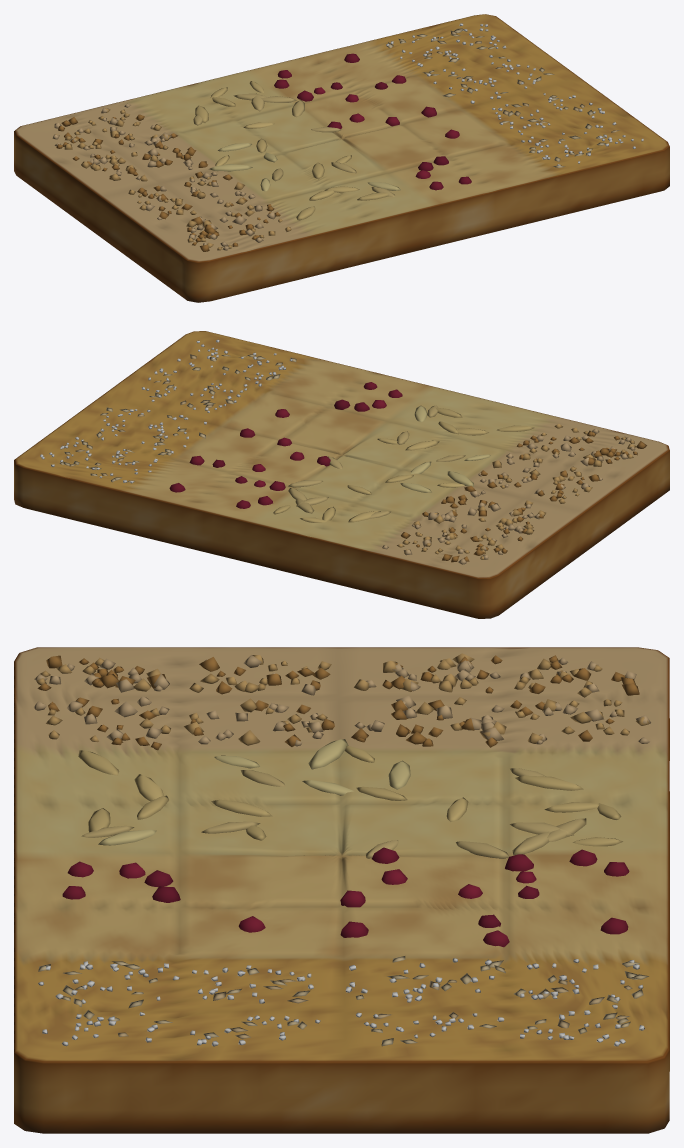
Rendered from blechkuchen.glb.
3 views of the same model, one above another, from view 1: azimuth 30°, elevation 25°; view 2: azimuth 150°, elevation 25°; view 3: azimuth 270°, elevation 25° (orthographic). The views are drawn at different scales.
Visible parts, largest first — view 1: blechkuchen; view 2: blechkuchen; view 3: blechkuchen.
Part boxes in pixels (x1,y1,x2,y2): blechkuchen: (14, 14, 669, 302); blechkuchen: (14, 331, 669, 618); blechkuchen: (14, 647, 669, 1133).
Bounding box in the file's own units: 0.6001 × 0.0583 × 0.4001.
